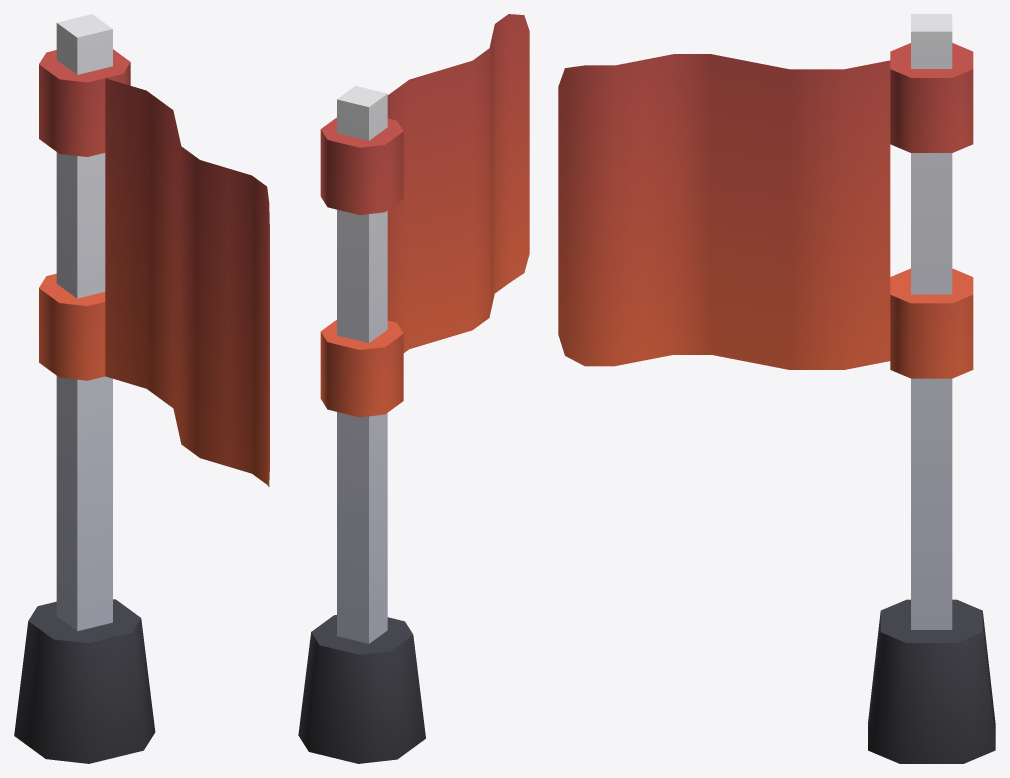
The model's file is Flag_2.glb.
3 renders of one model, left to right at view 1: azimuth 30°, elevation 25°; view 2: azimuth 150°, elevation 25°; view 3: azimuth 270°, elevation 25°, orthographic. The views are drawn at different scales.
Parts seen in each view (by area): view 1: flag_cloth, flag_stick; view 2: flag_cloth, flag_stick; view 3: flag_cloth, flag_stick.
Boxes of the visible parts, <box> form: flag_cloth: <box>39,49,269,486</box>; flag_stick: <box>14,14,155,763</box>; flag_cloth: <box>320,14,529,417</box>; flag_stick: <box>298,86,425,763</box>; flag_cloth: <box>558,43,973,378</box>; flag_stick: <box>868,14,995,763</box>.
Bounding box in the file's own units: 0.2 × 1.24 × 0.685.
1 material, 1 textured.
